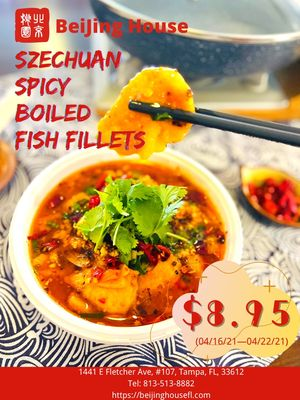salad: (127, 101, 299, 148)
sushi: (9, 148, 243, 337), (240, 163, 300, 228)
